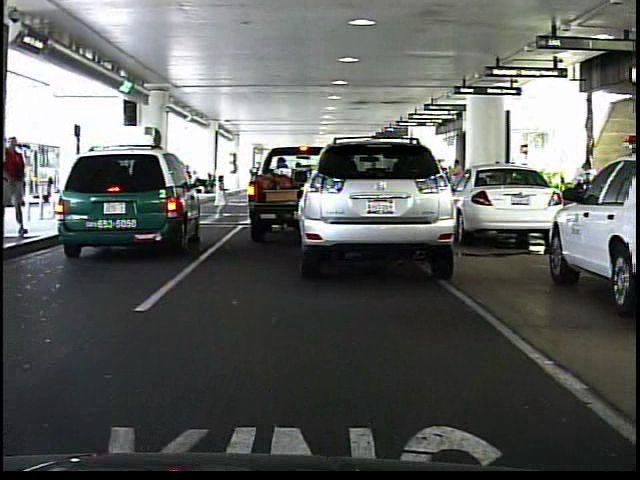person: (7, 133, 34, 242), (210, 169, 238, 223), (450, 156, 465, 179)
